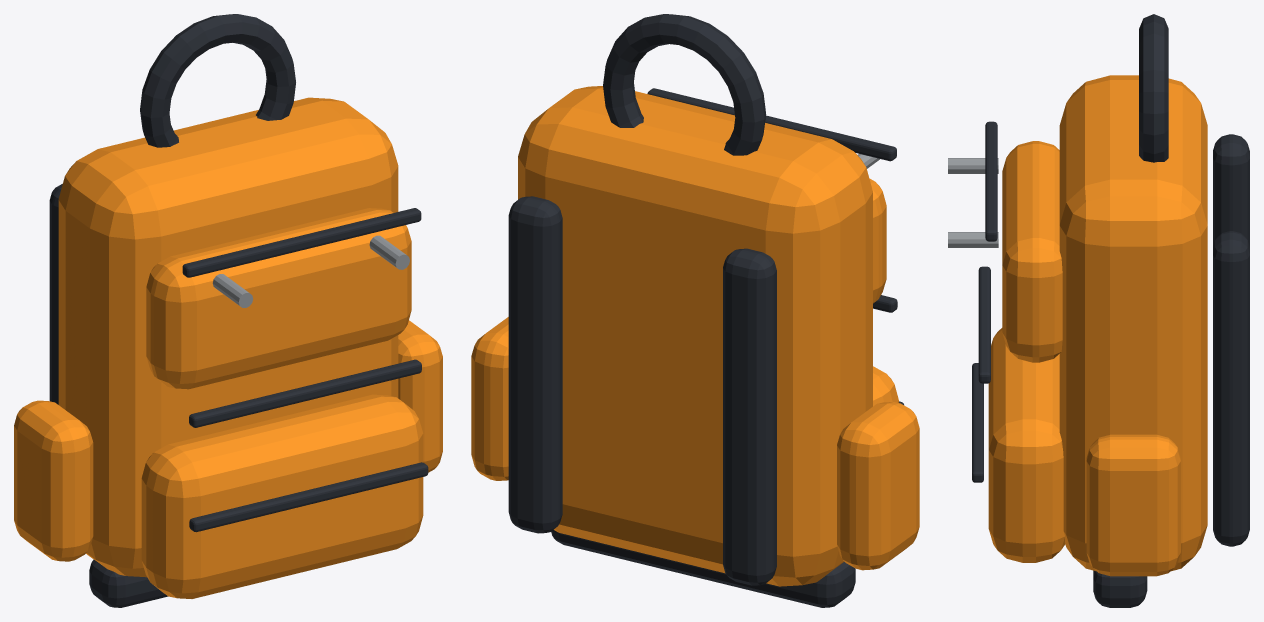
File: sac_cheikh_orange.glb
3 views of the same model, side by side, from view 1: azimuth 30°, elevation 25°; view 2: azimuth 150°, elevation 25°; view 3: azimuth 270°, elevation 25° (orthographic). The views are drawn at different scales.
Parts seen in each view (by area): view 1: Corps, PocheBasse, PocheHaute, PocheLateraleG, Poignee, PocheLateraleD, ZipBas, ZipHaut, ZipMilieu, BretelleG, FondRenforce, Tirette2 (+1 smaller); view 2: Corps, BretelleD, BretelleG, PocheLateraleG, Poignee, PocheLateraleD, FondRenforce, ZipHaut, PocheHaute, PocheBasse; view 3: Corps, PocheBasse, PocheLateraleD, PocheHaute, BretelleD, Poignee, BretelleG, FondRenforce, ZipHaut, ZipMilieu, ZipBas, Tirette2 (+1 smaller).
Boxes of the visible parts, bbox=[...] form: Corps: bbox=[58, 97, 398, 577]; PocheBasse: bbox=[141, 394, 423, 598]; PocheHaute: bbox=[146, 208, 411, 389]; PocheLateraleG: bbox=[14, 400, 93, 561]; Poignee: bbox=[140, 14, 295, 147]; PocheLateraleD: bbox=[398, 320, 442, 472]; ZipBas: bbox=[189, 462, 428, 532]; ZipHaut: bbox=[182, 208, 421, 277]; ZipMilieu: bbox=[189, 359, 421, 427]; BretelleG: bbox=[49, 184, 62, 404]; FondRenforce: bbox=[89, 559, 167, 607]; Tirette2: bbox=[369, 235, 409, 269]; Corps: bbox=[518, 86, 872, 586]; BretelleD: bbox=[508, 196, 562, 533]; BretelleG: bbox=[723, 248, 776, 585]; PocheLateraleG: bbox=[837, 402, 919, 570]; Poignee: bbox=[603, 14, 766, 155]; PocheLateraleD: bbox=[471, 317, 508, 480]; FondRenforce: bbox=[551, 530, 855, 607]; ZipHaut: bbox=[647, 88, 896, 161]; PocheHaute: bbox=[869, 178, 886, 303]; PocheBasse: bbox=[873, 366, 898, 406]; Corps: bbox=[1059, 75, 1207, 571]; PocheBasse: bbox=[988, 328, 1065, 562]; PocheLateraleD: bbox=[1086, 434, 1180, 576]; PocheHaute: bbox=[1002, 141, 1062, 362]; BretelleD: bbox=[1213, 231, 1249, 546]; Poignee: bbox=[1139, 14, 1168, 162]; BretelleG: bbox=[1213, 134, 1249, 247]; FondRenforce: bbox=[1093, 570, 1147, 607]; ZipHaut: bbox=[985, 121, 997, 241]; ZipMilieu: bbox=[978, 266, 990, 383]; ZipBas: bbox=[972, 363, 983, 482]; Tirette2: bbox=[948, 232, 998, 247].
Size of the model in its own units: 0.66 by 0.862 by 0.448.
